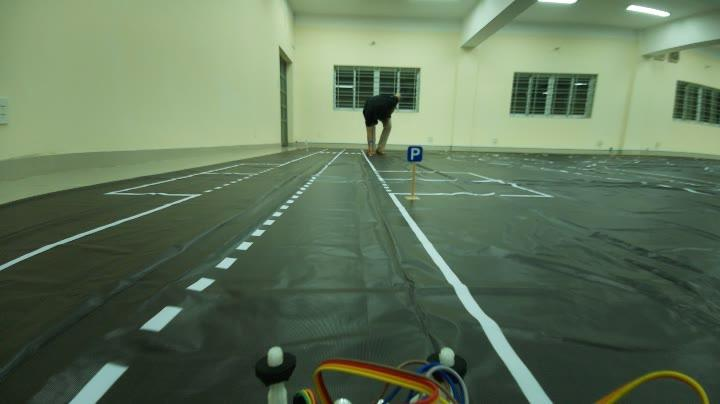parking: (402, 138, 426, 166)
